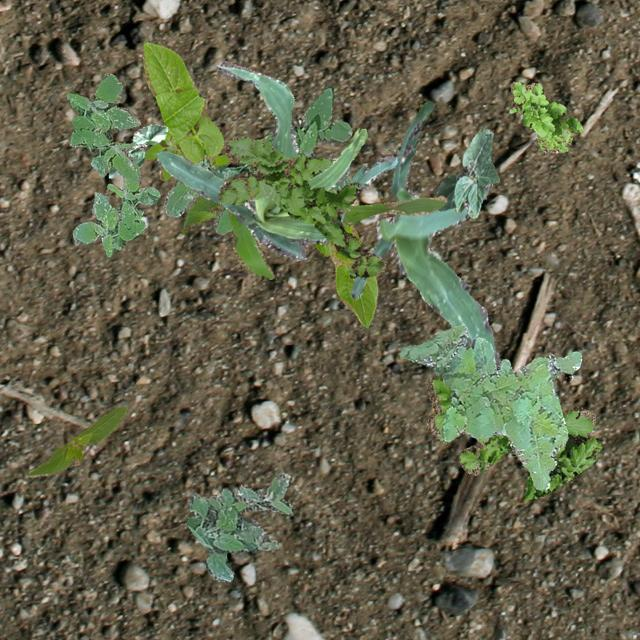crop: (154, 61, 396, 260), (350, 100, 498, 368), (182, 176, 446, 278), (142, 42, 222, 164), (26, 406, 126, 476), (312, 222, 376, 326), (434, 128, 498, 216), (108, 122, 166, 176)
weed: (398, 324, 580, 488), (162, 86, 350, 232), (217, 136, 386, 276), (426, 376, 600, 500), (186, 472, 292, 580), (72, 160, 158, 256), (66, 72, 140, 182), (508, 80, 582, 152), (143, 128, 230, 180), (312, 168, 320, 176)
